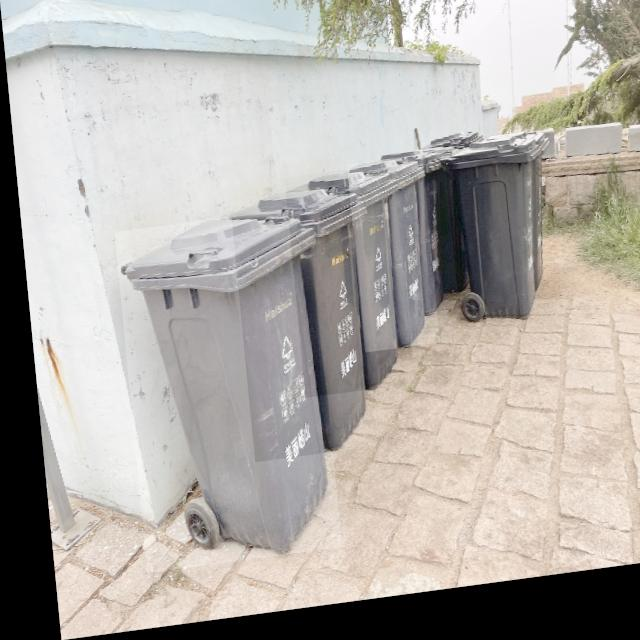garbage_bin: (110, 214, 330, 575), (225, 193, 376, 468), (280, 174, 407, 405), (440, 143, 555, 337), (343, 166, 432, 362)
